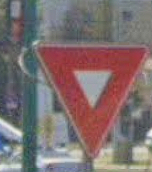cedeaza: (30, 41, 148, 159)
